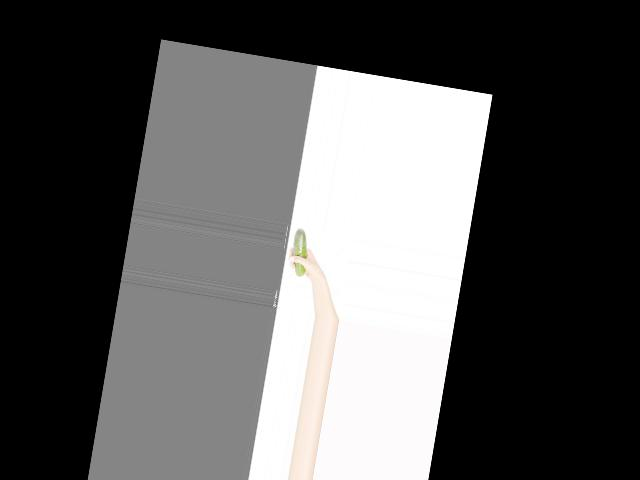cucumber: (287, 226, 311, 276)
